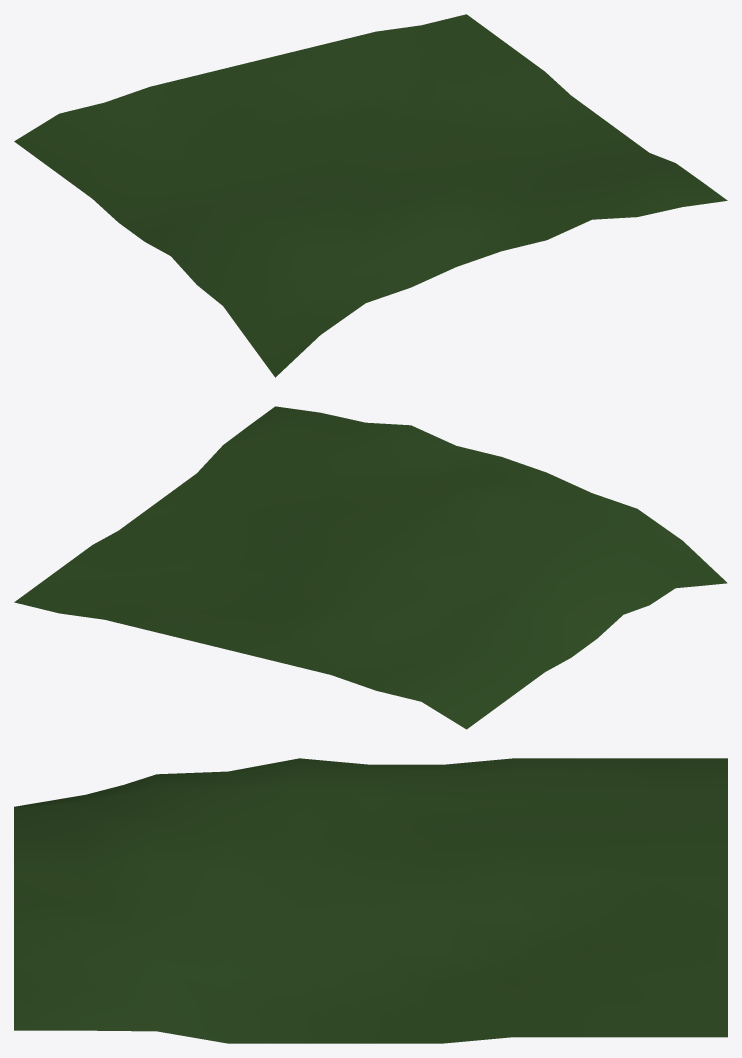
3 views of the same model, one above another, from view 1: azimuth 30°, elevation 25°; view 2: azimuth 150°, elevation 25°; view 3: azimuth 270°, elevation 25° (orthographic). The views are drawn at different scales.
Parts seen in each view (by area): view 1: TerrainModel.055; view 2: TerrainModel.055; view 3: TerrainModel.055.
Boxes of the visible parts, x1=… form: TerrainModel.055: x1=14, y1=14, x2=727, y2=377; TerrainModel.055: x1=14, y1=406, x2=727, y2=729; TerrainModel.055: x1=14, y1=758, x2=727, y2=1043.
Bounding box in the file's own units: 19608 × 3341 × 19608.
